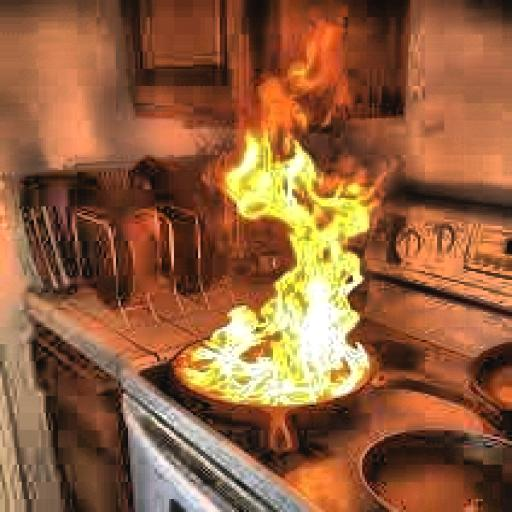fire: (181, 36, 413, 404)
